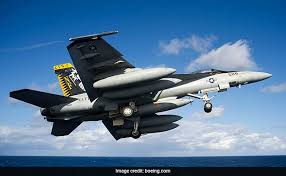fighter: (8, 25, 276, 138)
